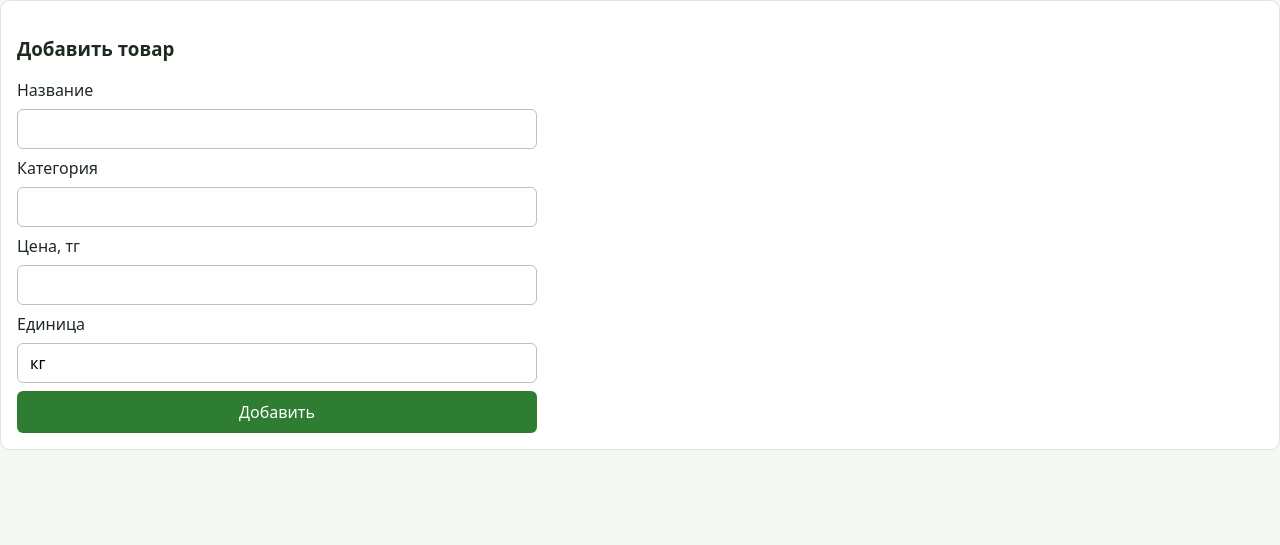
ProductForm › цена -500: сервер отвечает 400, видно «Цена должна быть больше 0»
The width and height of the screenshot is (1280, 545).
Type "Мёд" into the field labelled "Название".
click(277, 129); type("Мёд")  # box [17,109,537,149]
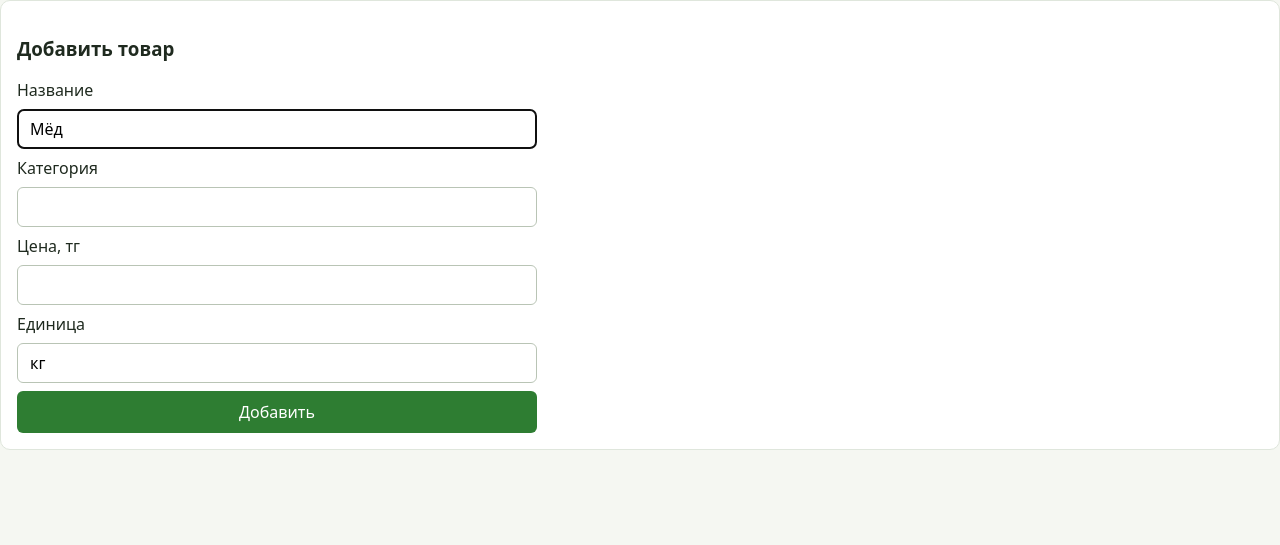
Type "Мёд" into the field labelled "Категория".
click(277, 207); type("Мёд")  # box [17,187,537,227]
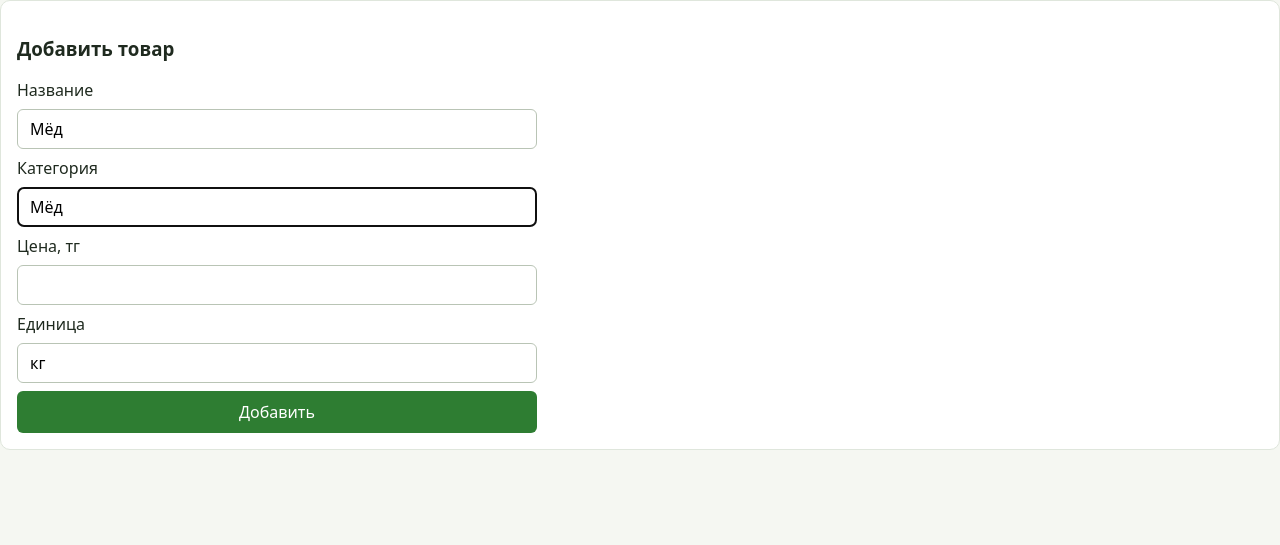
Type "-500" into the number field labelled "Цена, тг".
click(277, 285); type("-500")  # box [17,265,537,305]
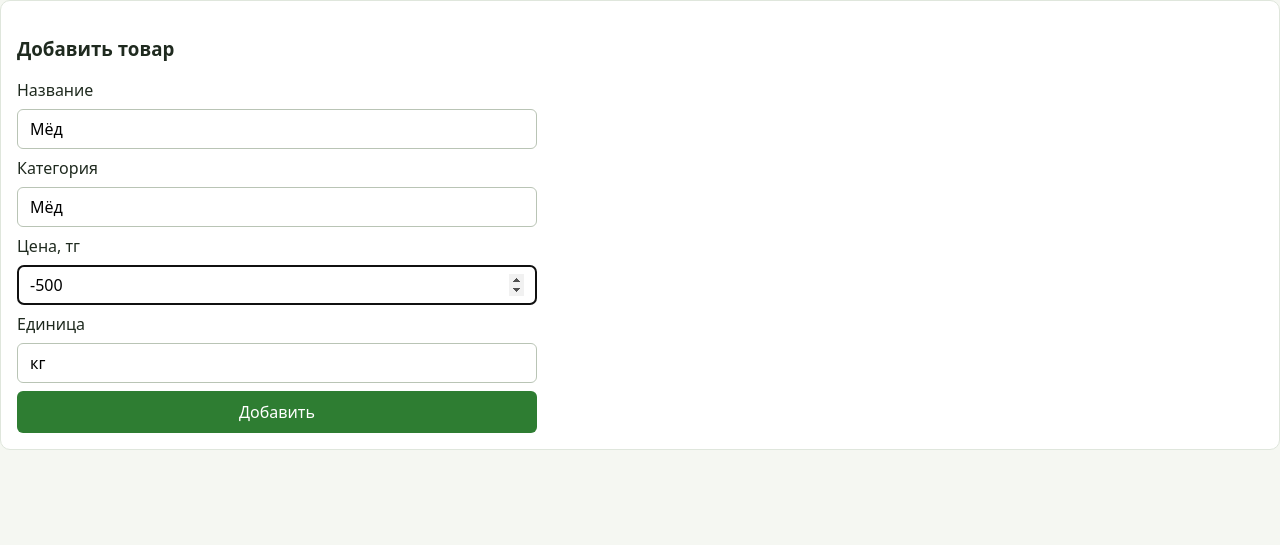
Click the button "Добавить".
click(277, 412)  # box [17,391,537,433]
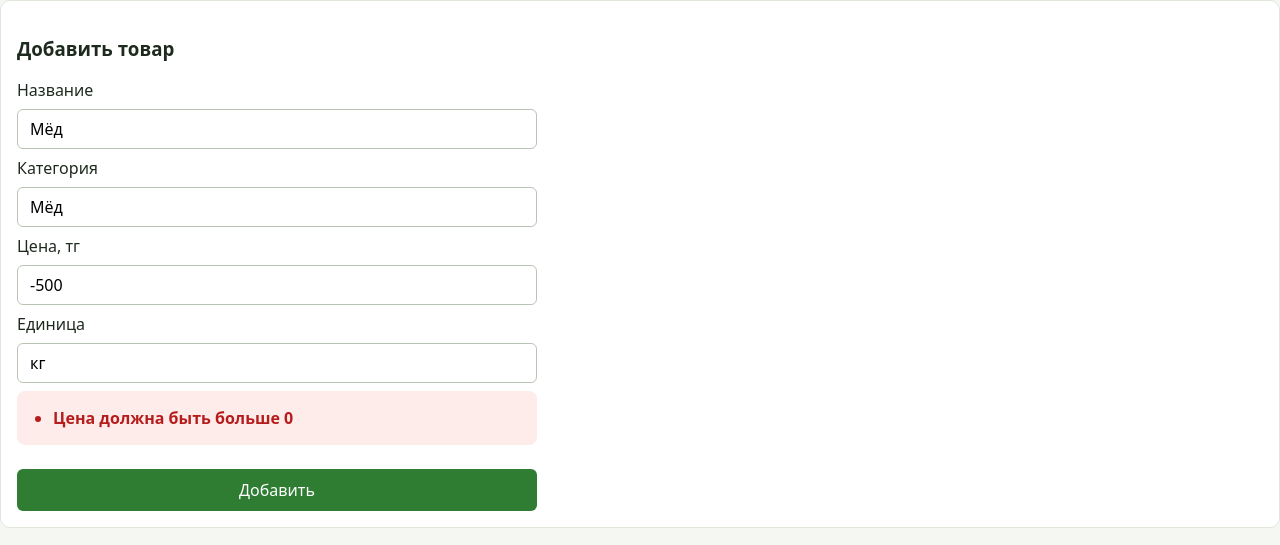
Expected: the message reads "Цена должна быть больше 0", [53,407,293,429]
